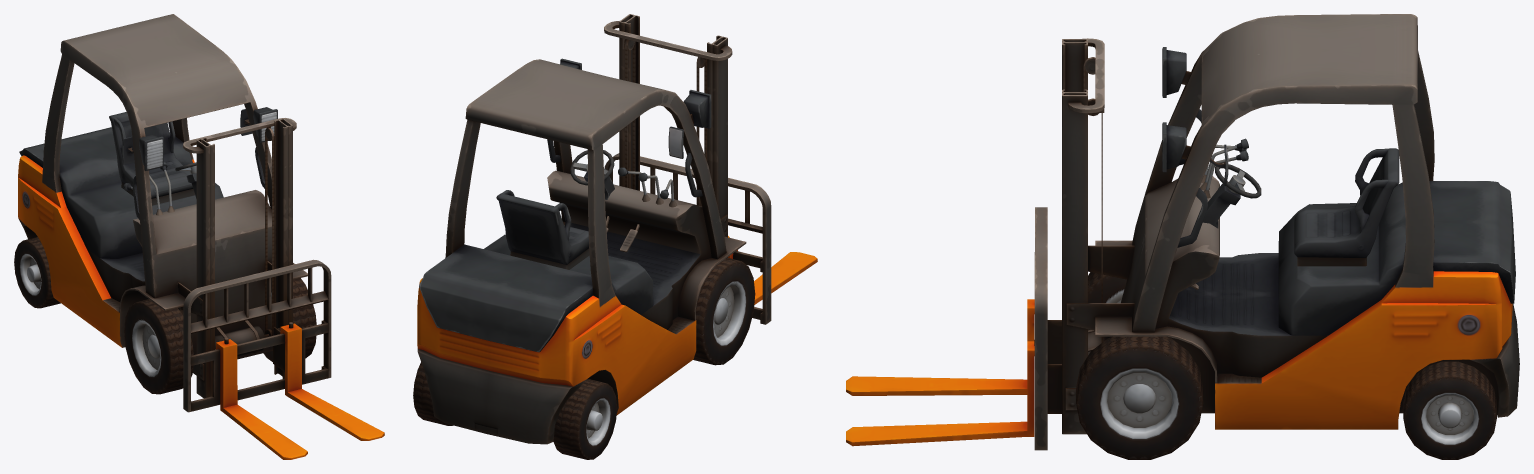
File: Forklift01.FBX
3 views of the same model, side by side, from view 1: azimuth 30°, elevation 25°; view 2: azimuth 150°, elevation 25°; view 3: azimuth 270°, elevation 25° (orthographic). The views are drawn at different scales.
Visible parts, largest first — view 1: FolkLift01; view 2: FolkLift01; view 3: FolkLift01.
Part boxes in pixels (x1,y1,x2,y2): FolkLift01: (14, 14, 384, 459); FolkLift01: (413, 14, 817, 459); FolkLift01: (846, 14, 1519, 459).
Size of what is drawn, in the model's own units: 1.35 by 2.37 by 3.99.
